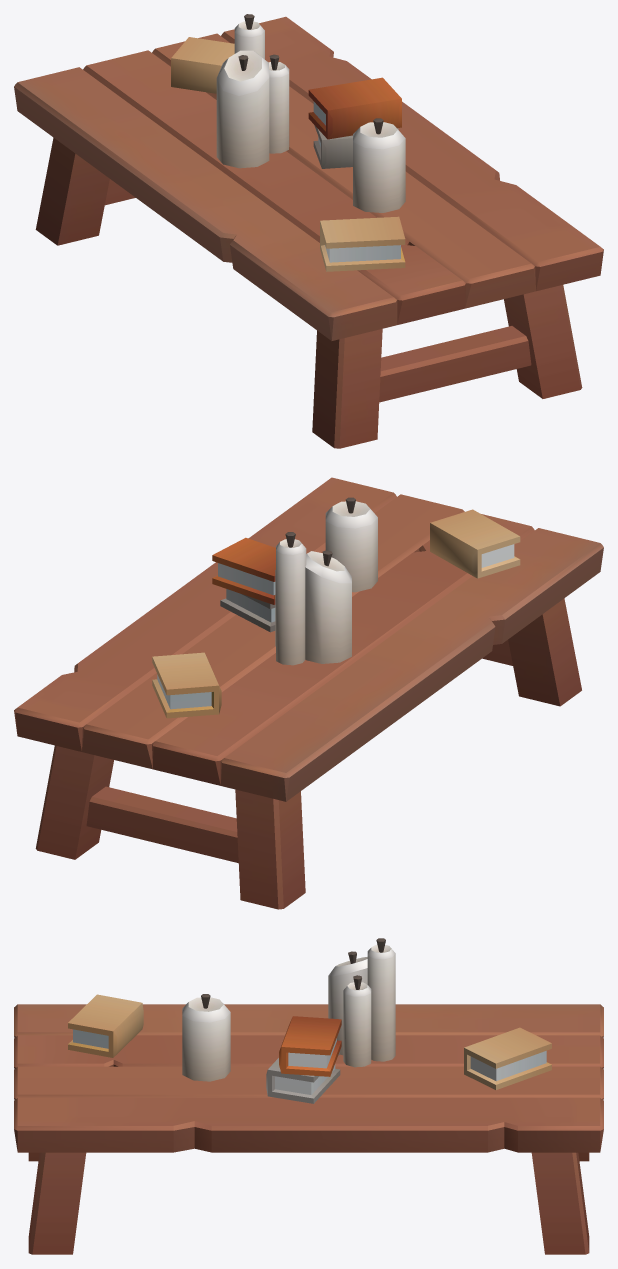
The model's file is table_long_decorated_b.glb.
The picture shows the model from 3 angles, top to bottom: view 1: azimuth 30°, elevation 25°; view 2: azimuth 150°, elevation 25°; view 3: azimuth 270°, elevation 25°; orthographic projection. The views are drawn at different scales.
Parts seen in each view (by area): view 1: table_long_decorated_B; view 2: table_long_decorated_B; view 3: table_long_decorated_B.
Boxes of the visible parts, box(x1,y1,x2,y2) form: table_long_decorated_B: box(14, 14, 603, 448); table_long_decorated_B: box(14, 477, 603, 909); table_long_decorated_B: box(14, 938, 603, 1254).
Size of the model in its own units: 2 by 1.87 by 4.
Materials: 1 (1 with a texture image).
